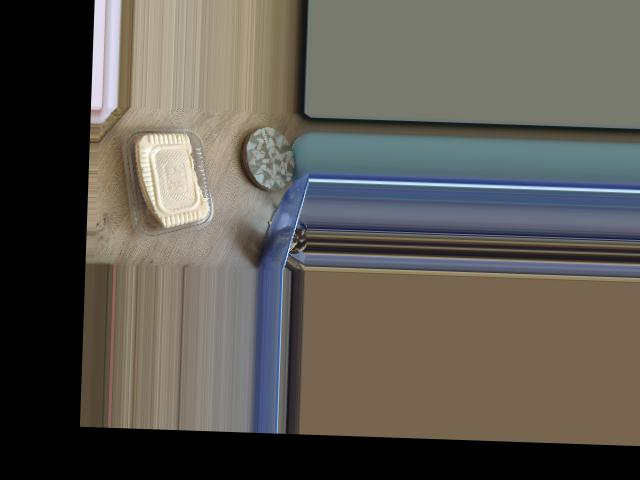cheese: (95, 111, 223, 228)
